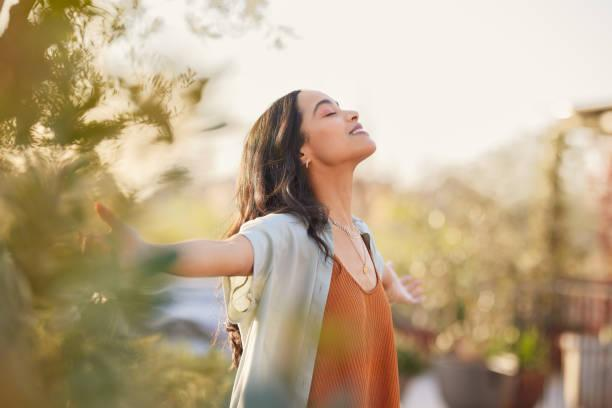no_goggle: (304, 96, 356, 125)
no_helmet: (229, 83, 309, 160)
no_vest: (210, 210, 409, 408)
